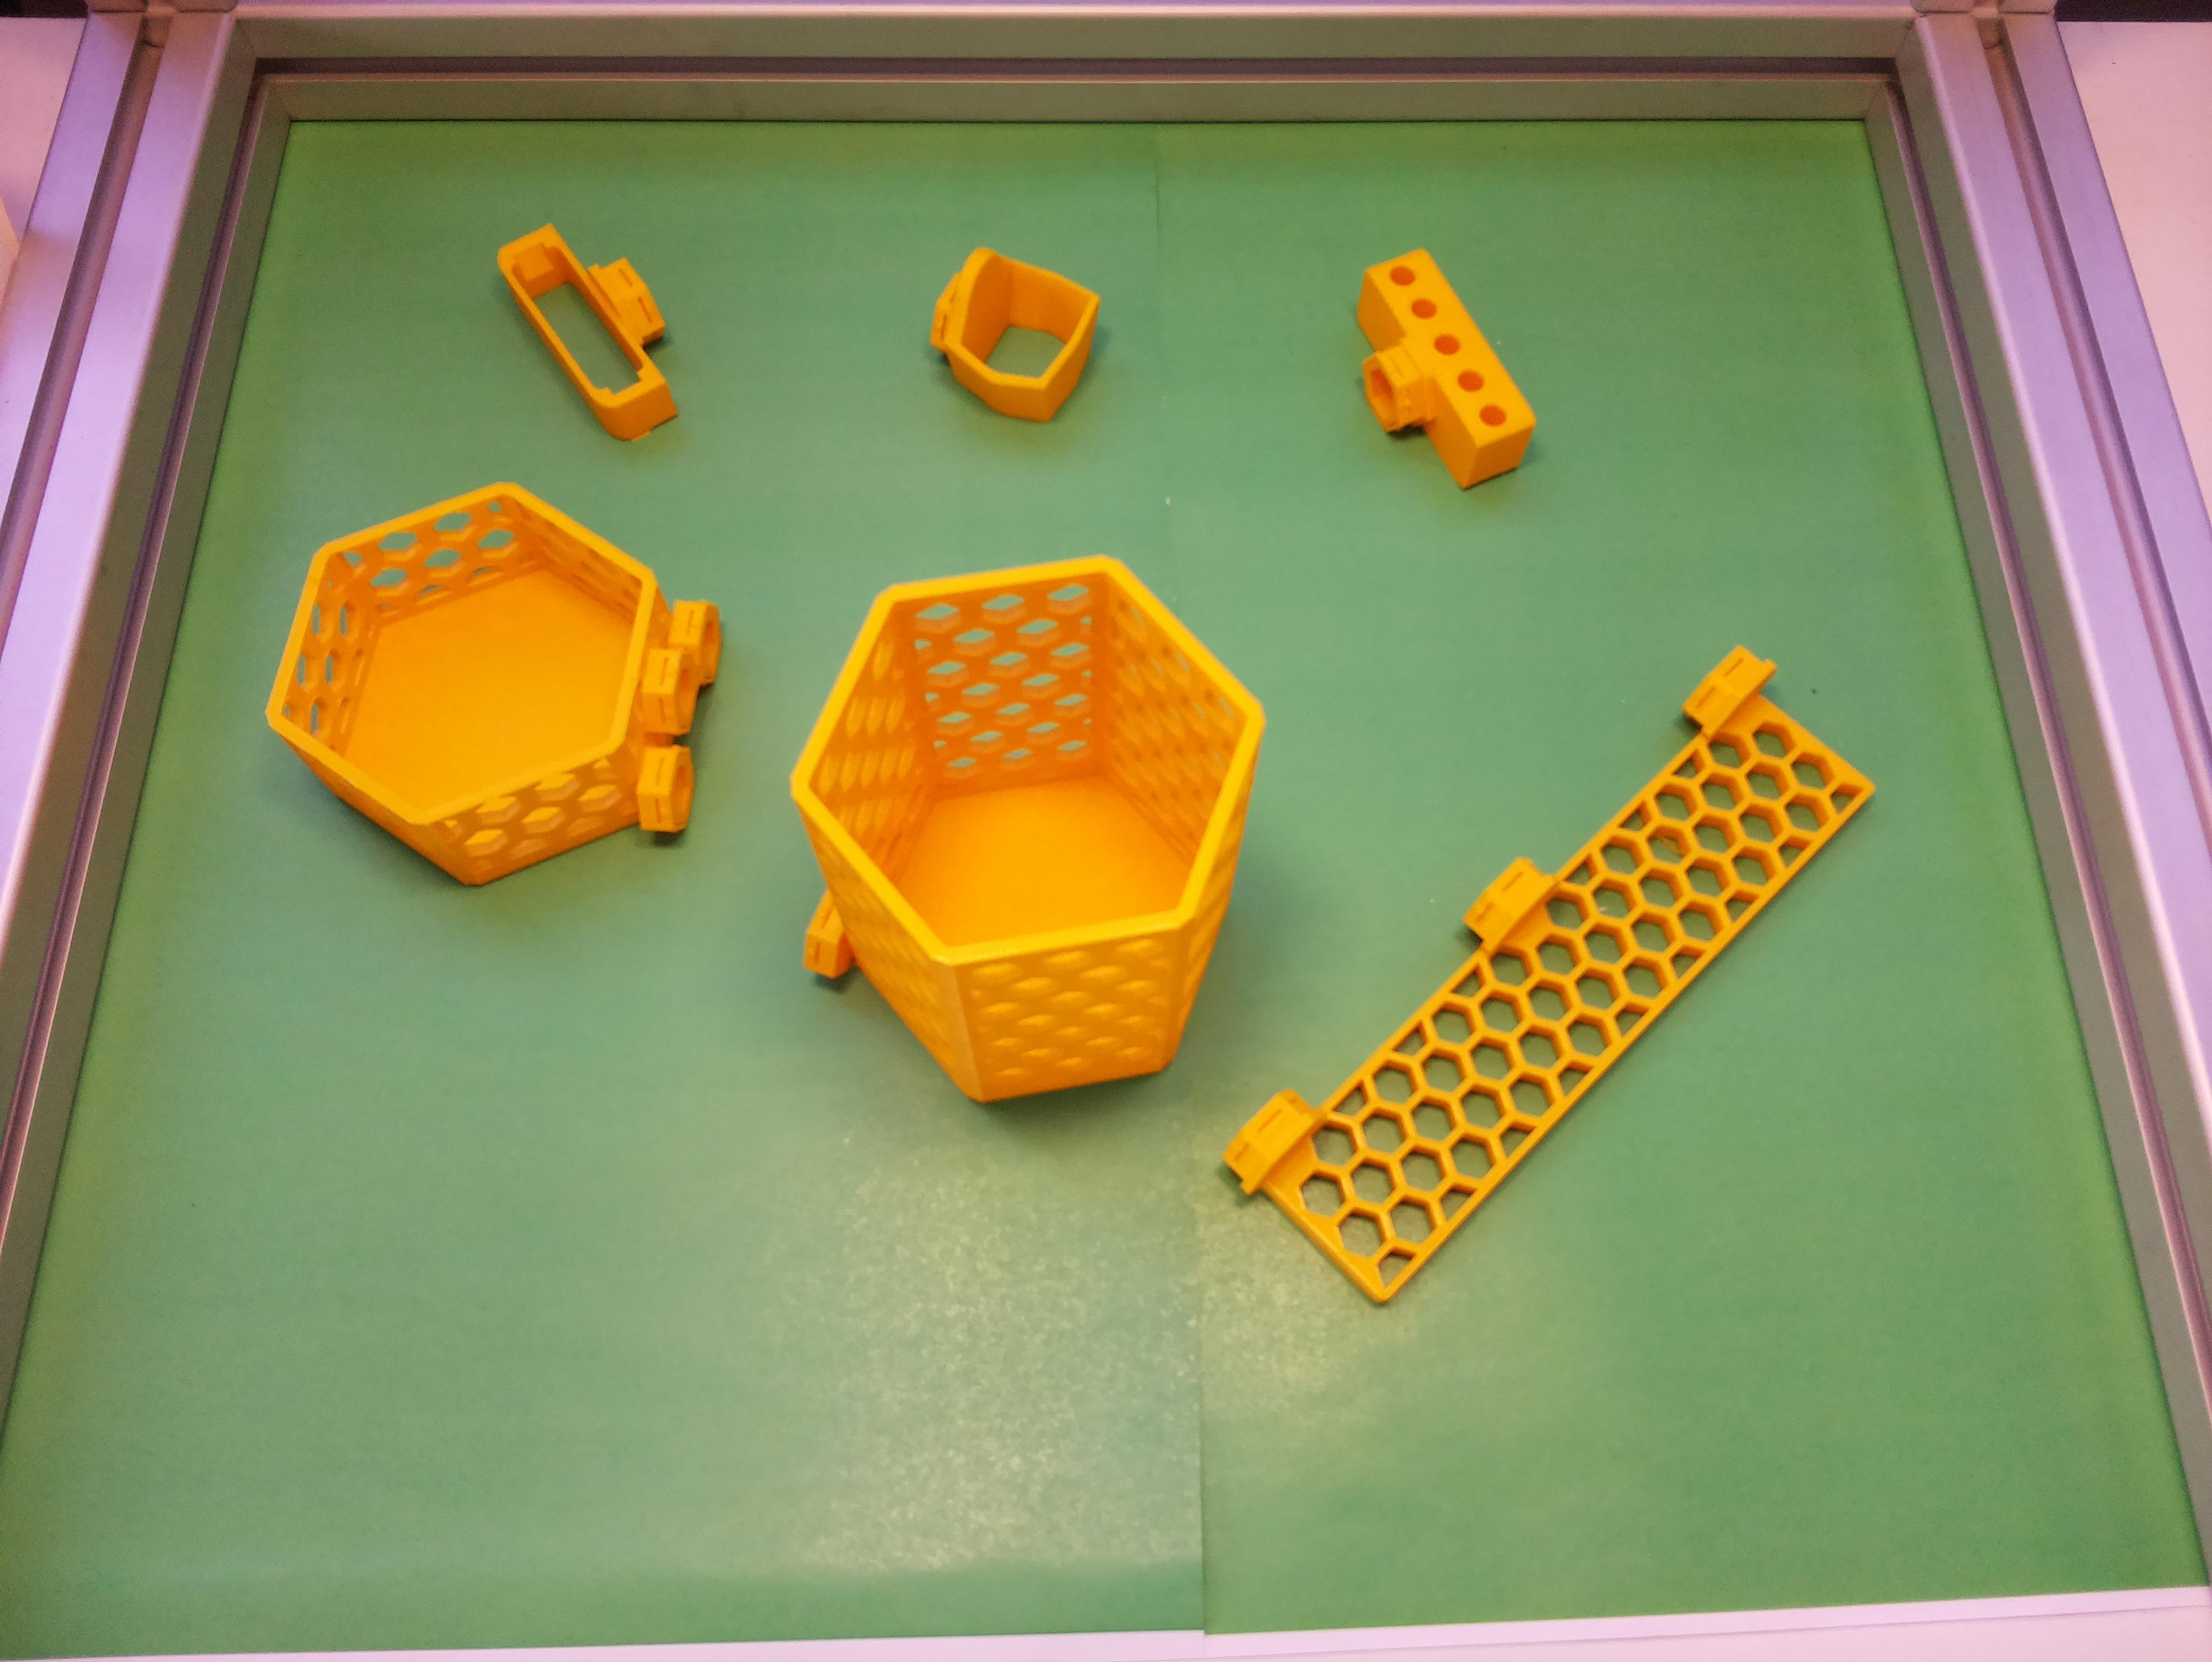bit_holder: (1306, 236, 1552, 515)
bottle_holder: (210, 414, 791, 965)
cup_holder: (711, 484, 1322, 1157)
cutter_holder: (485, 192, 718, 454)
scissor_holder: (910, 237, 1112, 435)
tool_holder: (1212, 622, 1891, 1316)
